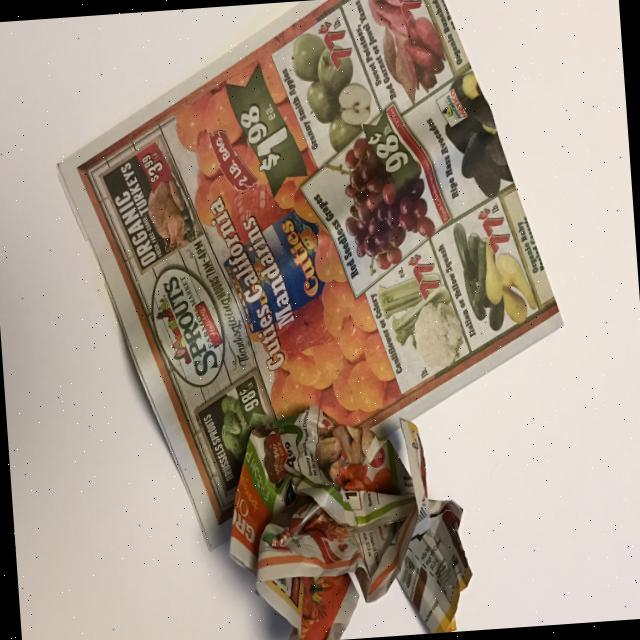paper: (44, 0, 585, 640)
